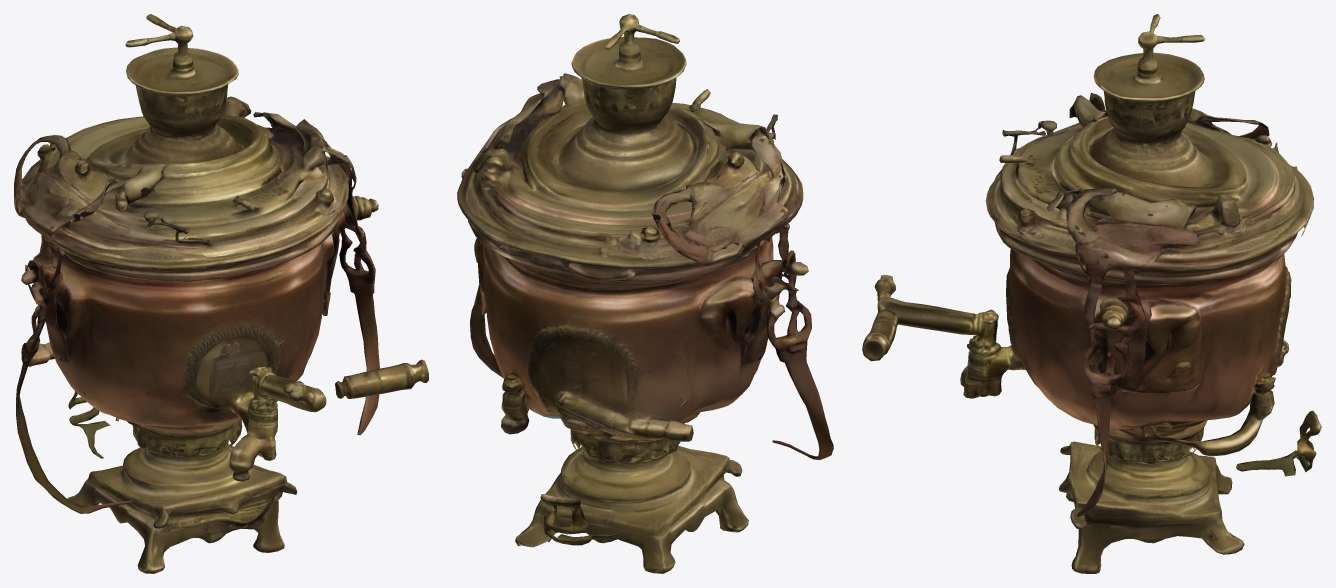
Rendered from prop_crump_samovar.glb.
3 renders of one model, left to right at view 1: azimuth 30°, elevation 25°; view 2: azimuth 150°, elevation 25°; view 3: azimuth 270°, elevation 25°, orthographic. The views are drawn at different scales.
Bounding box in the file's own units: 0.2782 × 0.385 × 0.314.
1 material, 1 textured.
